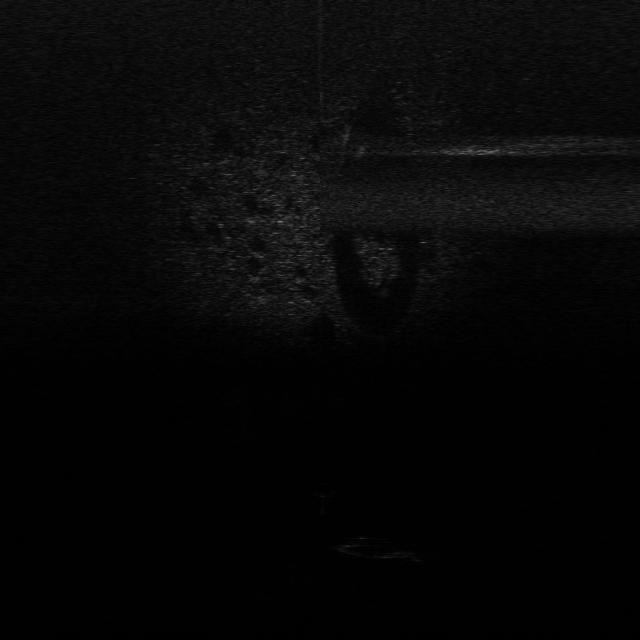ball: (310, 479, 340, 500)
tyre: (330, 534, 414, 563)
